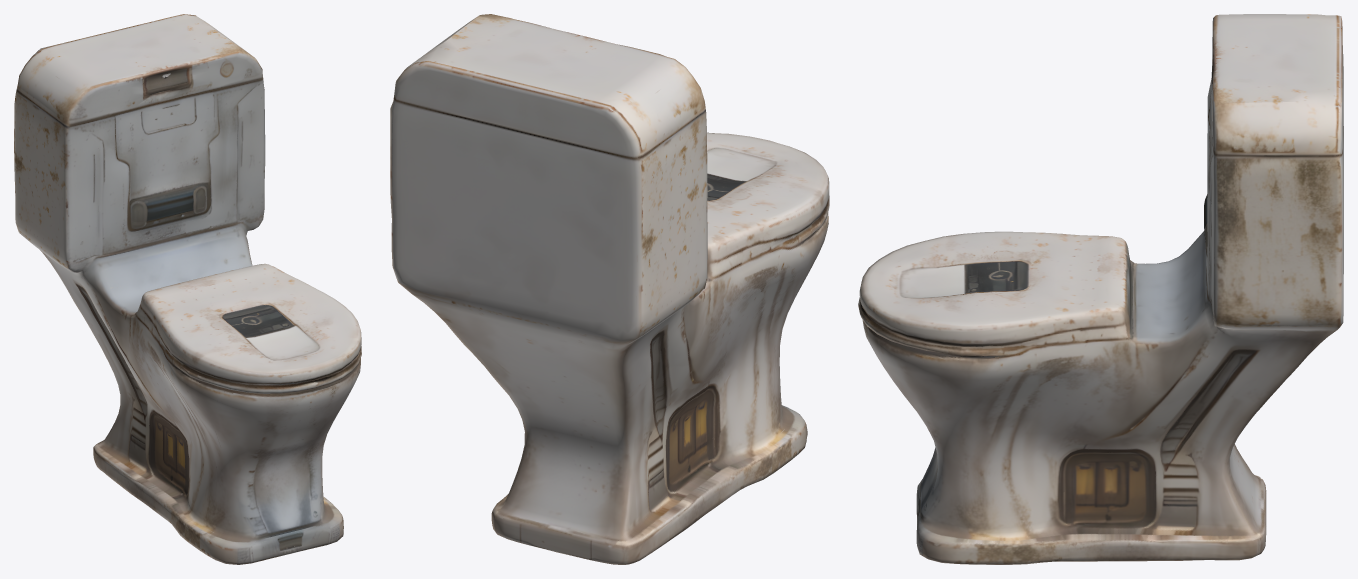
Rendered from ToiletOptimised.glb.
The picture shows the model from 3 angles, left to right: view 1: azimuth 30°, elevation 25°; view 2: azimuth 150°, elevation 25°; view 3: azimuth 270°, elevation 25°; orthographic projection. The views are drawn at different scales.
Visible parts, largest first — view 1: RETOPO; view 2: RETOPO; view 3: RETOPO.
Boxes of the visible parts, box(x1,y1,x2,y2) form: RETOPO: box(14, 14, 361, 564); RETOPO: box(390, 14, 829, 564); RETOPO: box(858, 14, 1343, 564).
Size of the model in its own units: 1.01 by 1.9 by 1.78.
1 material, 1 textured.
